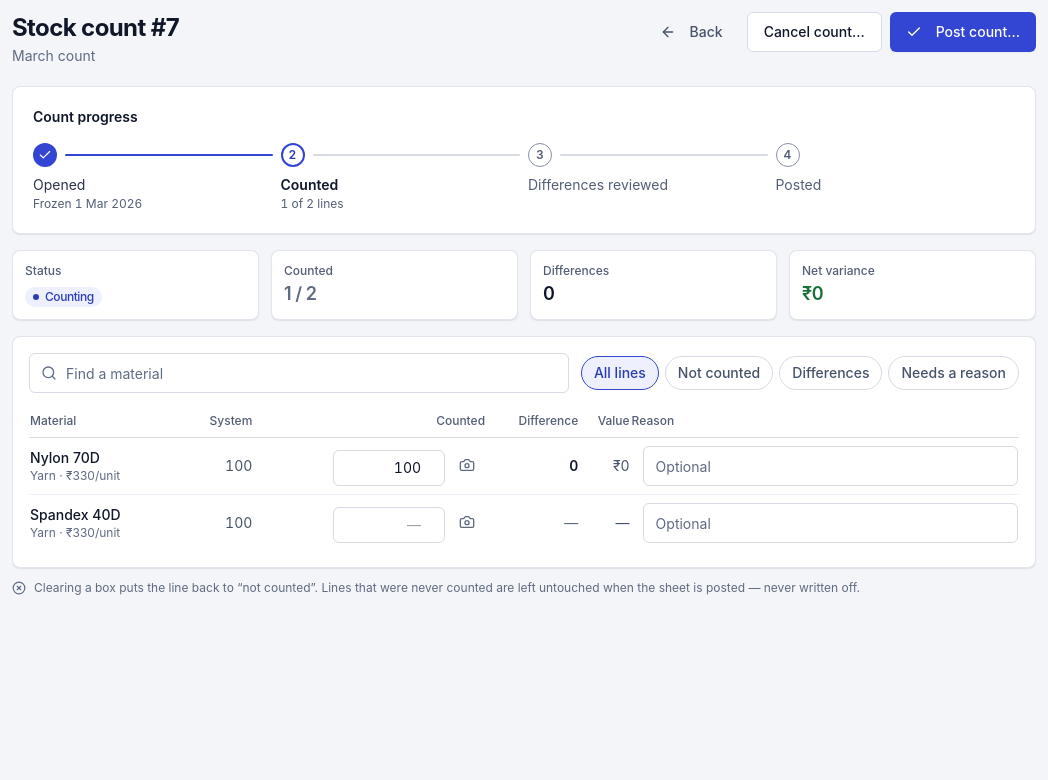
Scenario: StockCountDetailPage › filters to the lines nobody has been to yet
Click the button "Not counted". click: (719,373)
box: [665, 356, 773, 390]
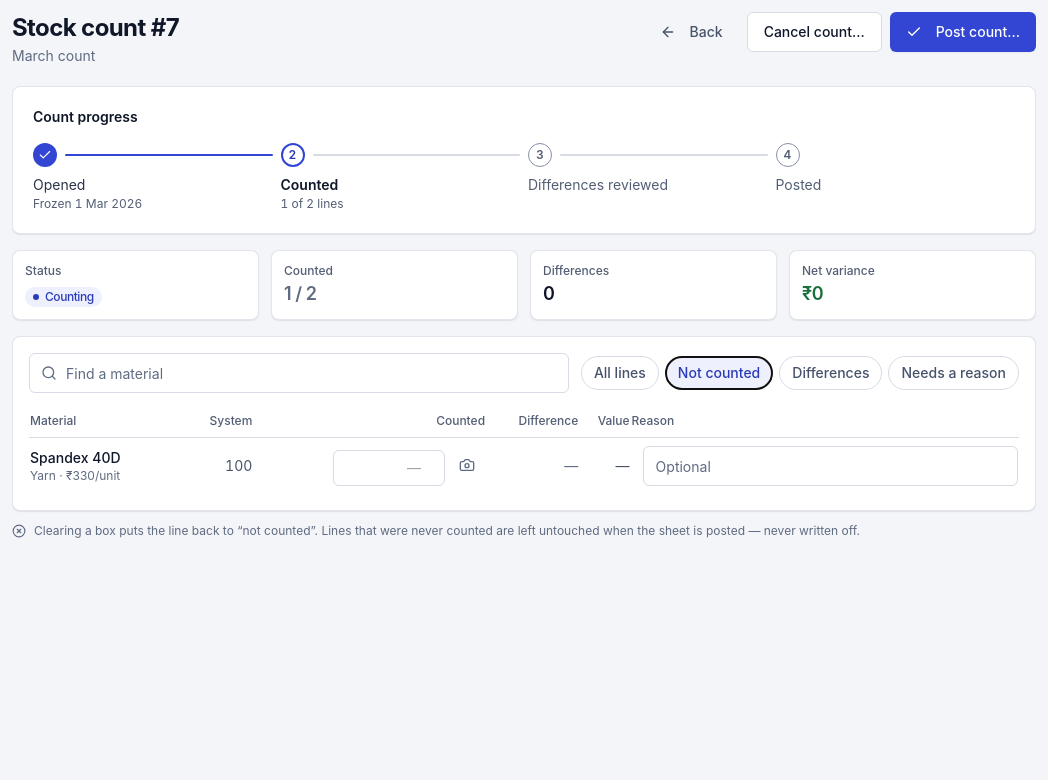
Expected: the text "Spandex 40D" is shown, [30, 449, 121, 466]
Expected: the text "Nylon 70D" is gone
